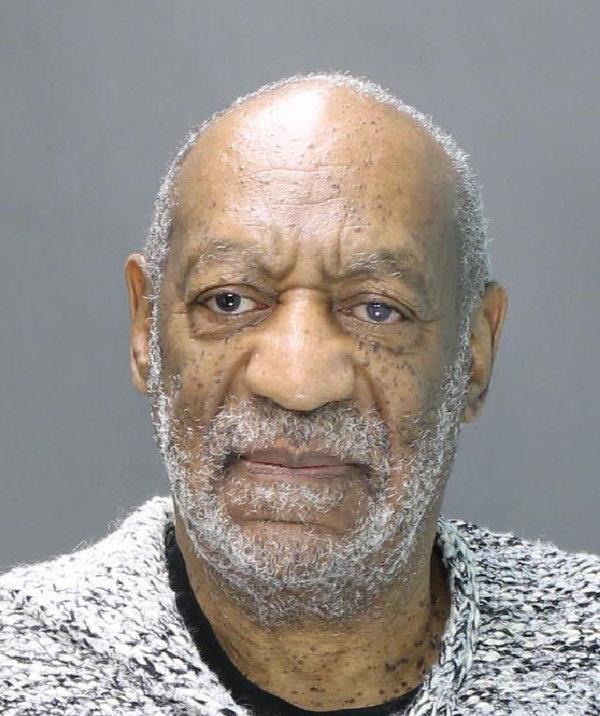Sober: (172, 139, 441, 585)
